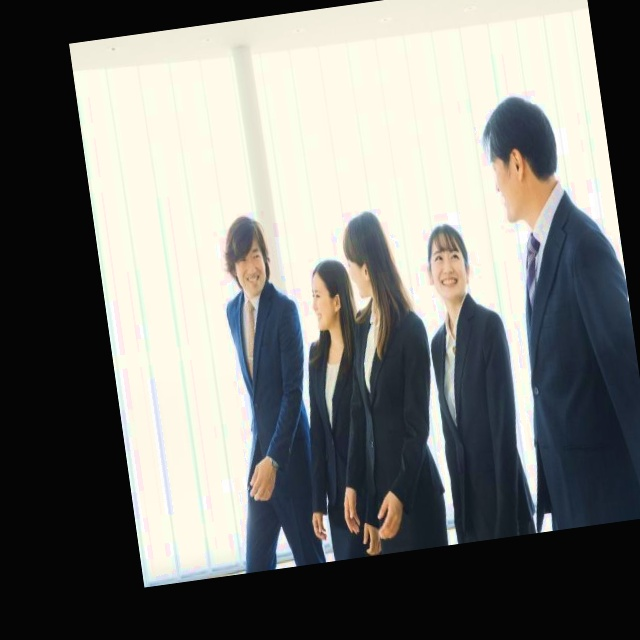Sin_Casco_Mascarrilla: (481, 92, 566, 224), (338, 206, 399, 302), (219, 214, 274, 294), (421, 221, 475, 301), (306, 258, 356, 335)
